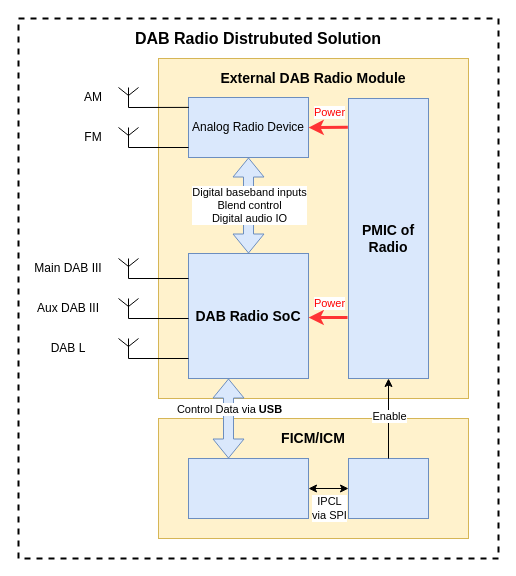
The diagram is 516 pixels wide and 576 high, and some of its shapes have lost their labels. Each missing label, with the centre of its shape:
"Core SoC" goes at [248,488].
"MCU" goes at [388,488].
